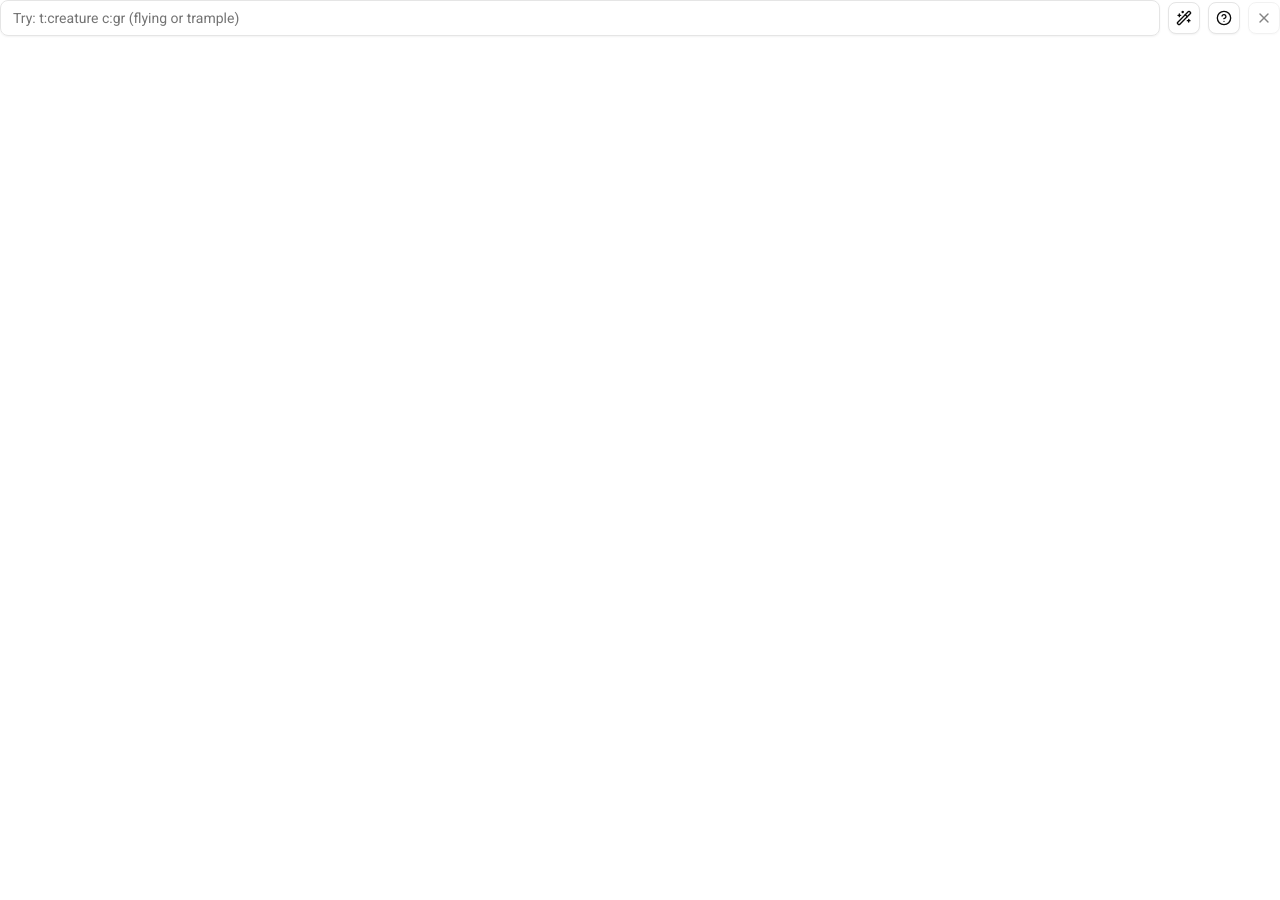
Scenario: CardSearchBar › builds a query string from the Advanced dialog and writes it into the bar
Click the button named "Search builder" at (1184,18), box left=1168, top=2, right=1200, bottom=34
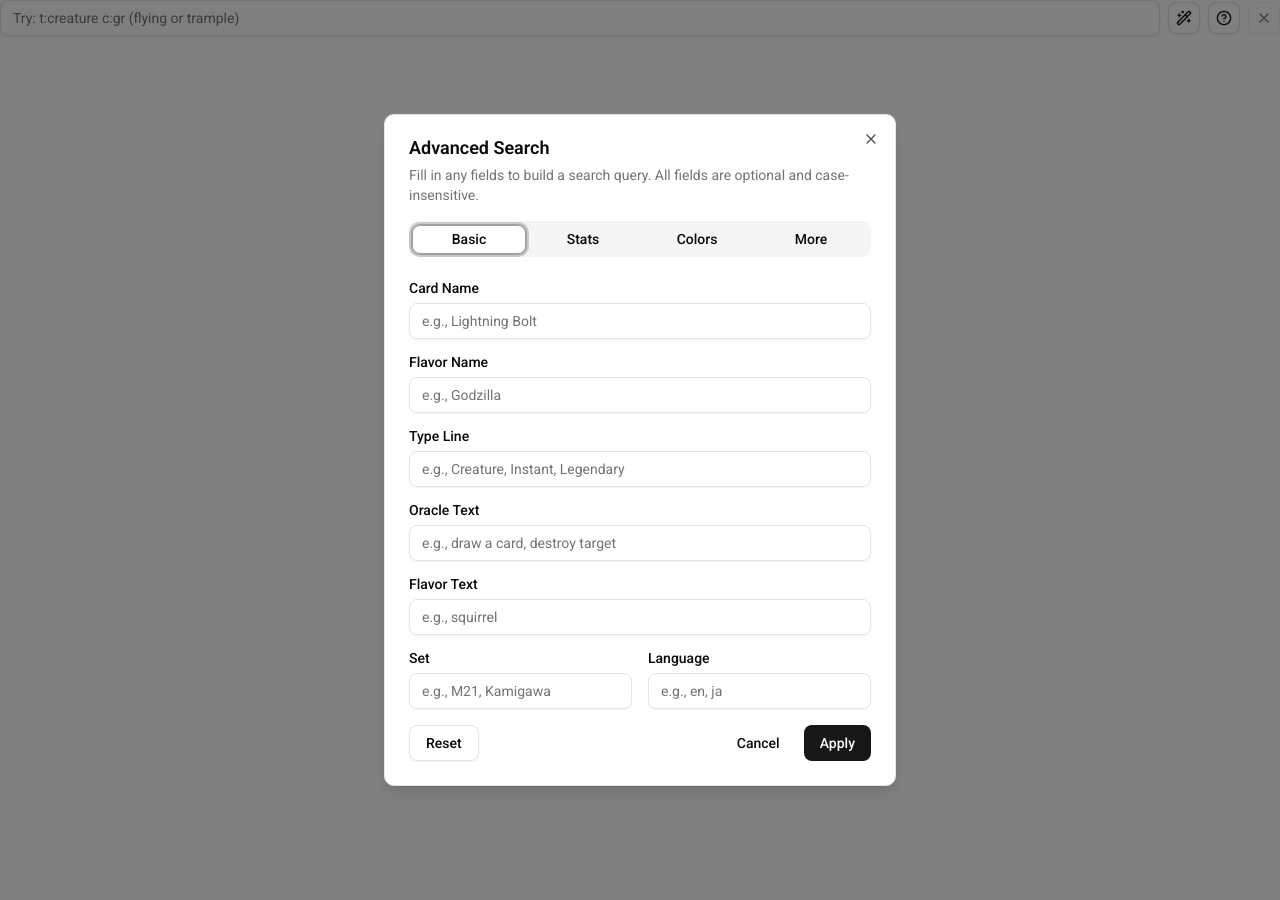
Note: The dialog's Card Name field maps to the `name:` operator.
Type "Bolt" into the field with placeholder "e.g., Lightning Bolt" at (640,321), box left=409, top=303, right=871, bottom=339
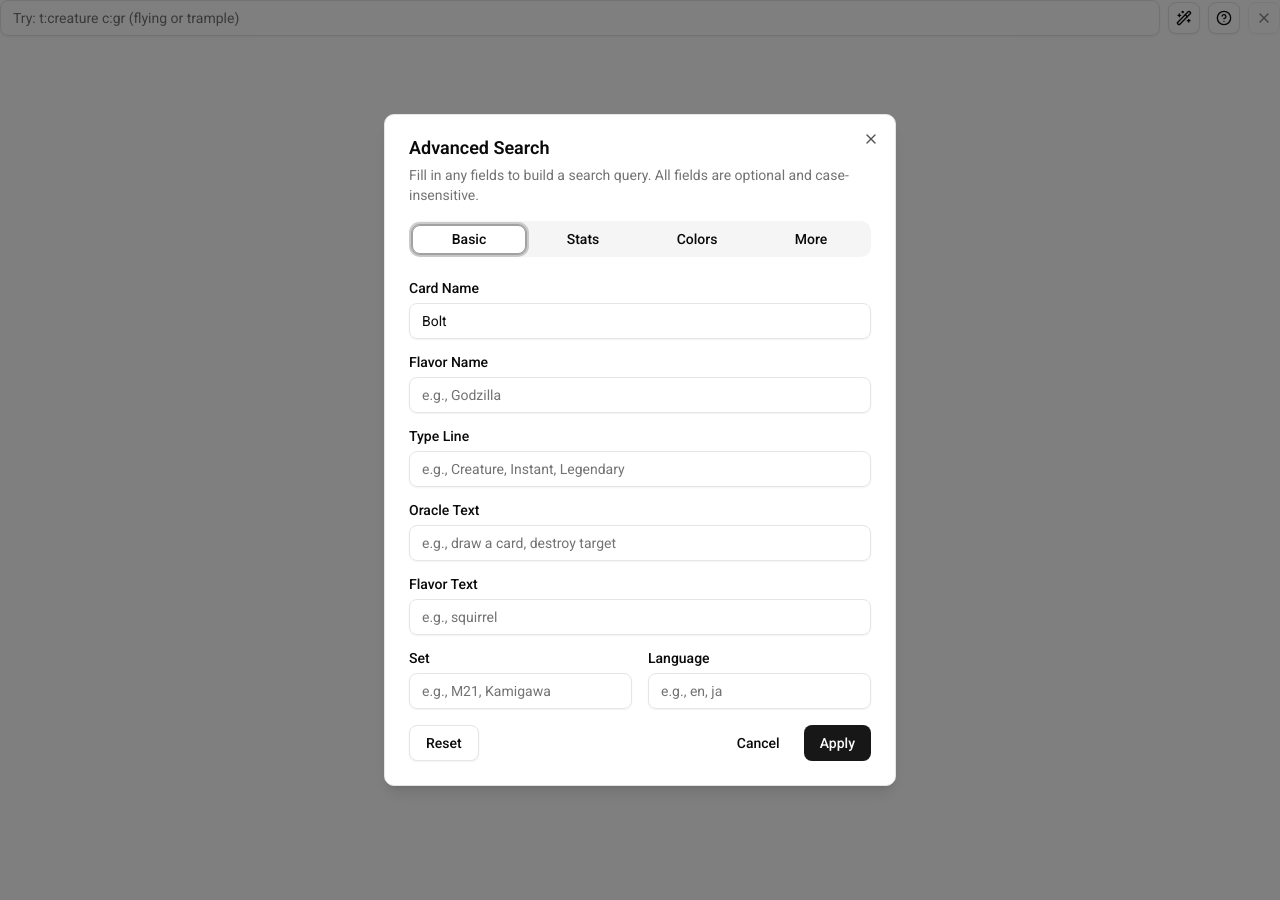
Click the button "Apply" at (837,743), box left=804, top=725, right=871, bottom=761
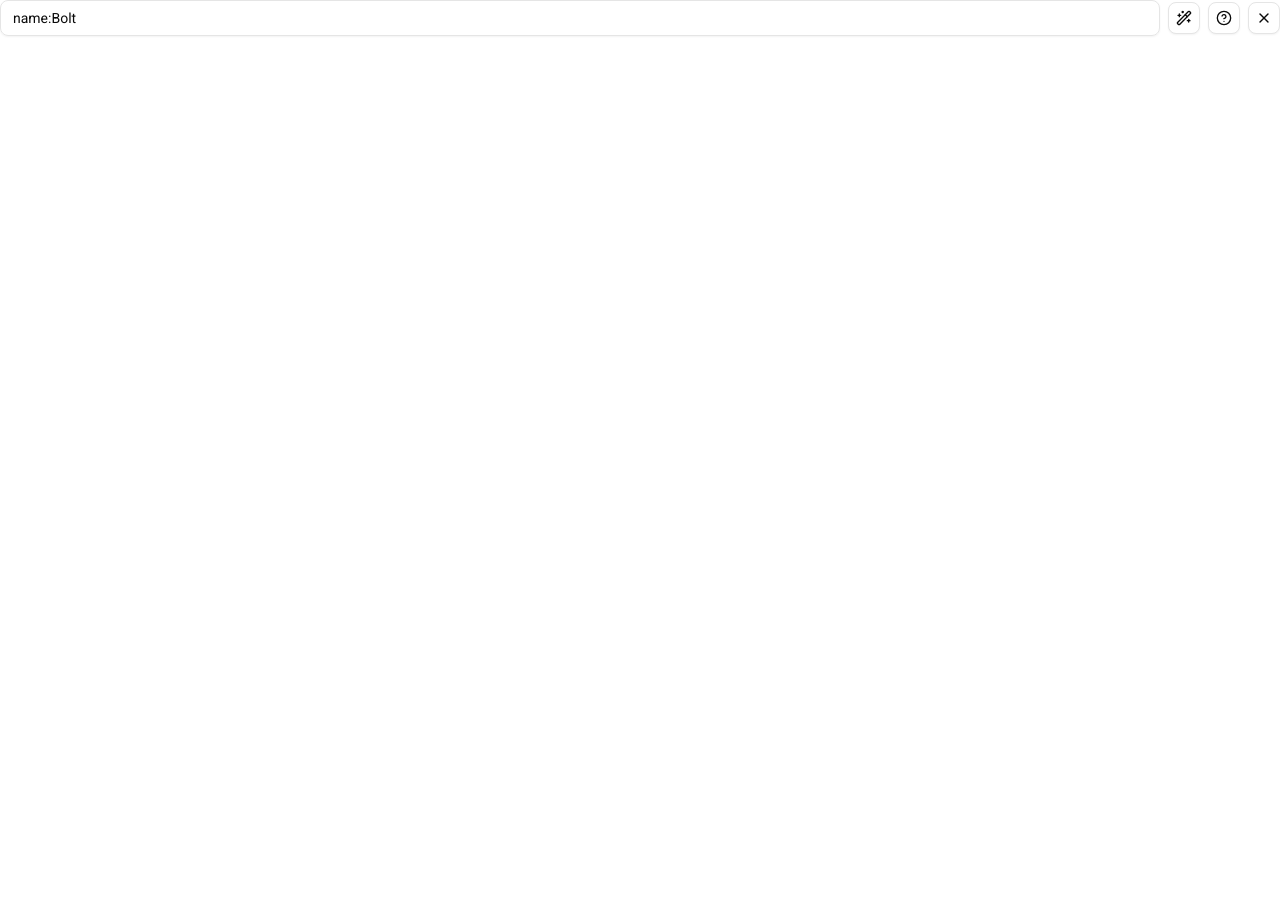
Now the field with placeholder "Try: t:creature c:gr (flying or trample)" holds "name:Bolt", box left=0, top=0, right=1160, bottom=36
